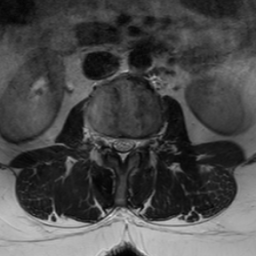CCS_normal: (118, 129, 126, 169)
LFS_normal: (137, 130, 146, 156)
LLS_normal: (126, 130, 136, 158)
RFS_normal: (101, 126, 110, 155)
RLS_normal: (110, 128, 118, 156)
